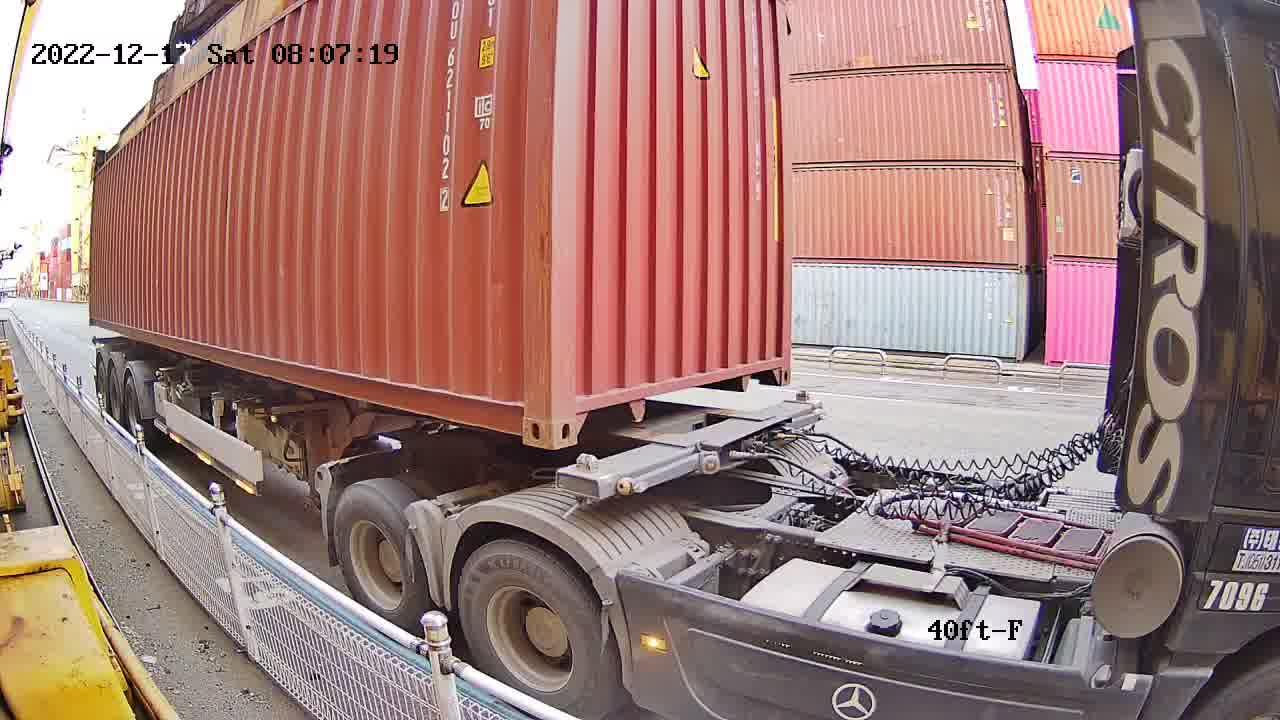Chassis: (563, 397, 823, 497)
Cone: (556, 451, 603, 526), (797, 388, 818, 433)
Hole_L: (552, 371, 607, 450)
Hole_R: (492, 372, 552, 449), (748, 329, 792, 392)
Tire: (457, 549, 605, 719), (333, 487, 426, 627)
